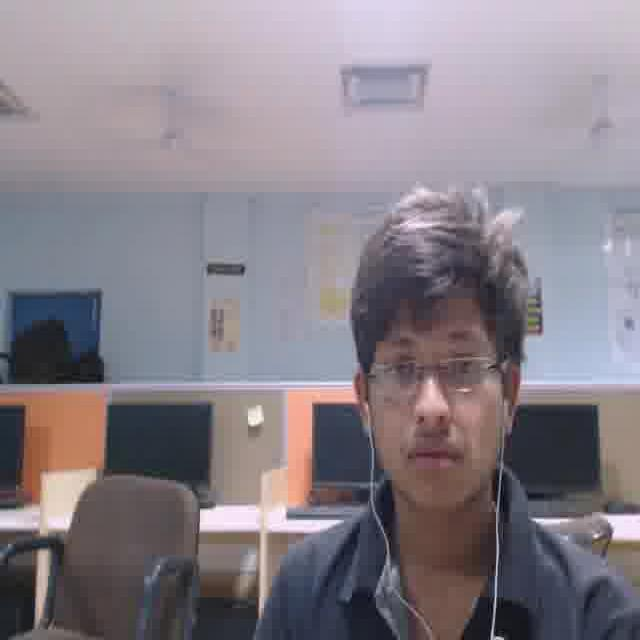Confusion: (365, 294, 497, 502)
